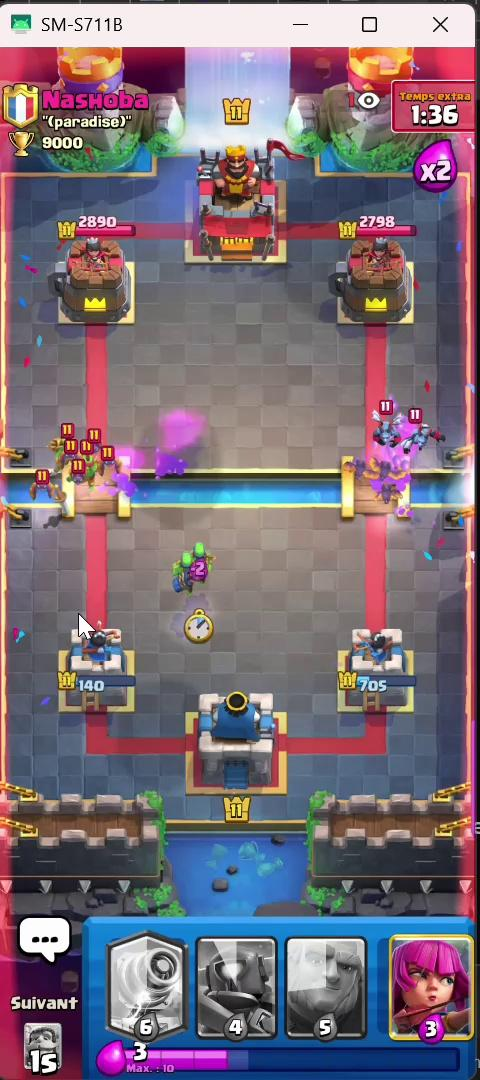bat: (29, 467, 63, 508), (370, 455, 406, 483), (375, 483, 410, 508), (57, 433, 80, 463), (91, 451, 129, 469), (346, 459, 372, 483), (85, 428, 107, 450), (67, 462, 85, 485)
gargouille: (391, 409, 439, 471), (363, 399, 401, 465)
gobelin_lances: (188, 534, 226, 579), (40, 430, 75, 466), (73, 454, 114, 482), (164, 553, 196, 588)
